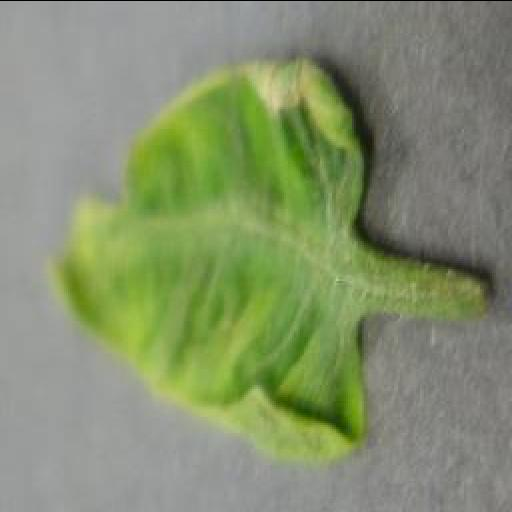disease_tomato: (44, 50, 374, 460)
